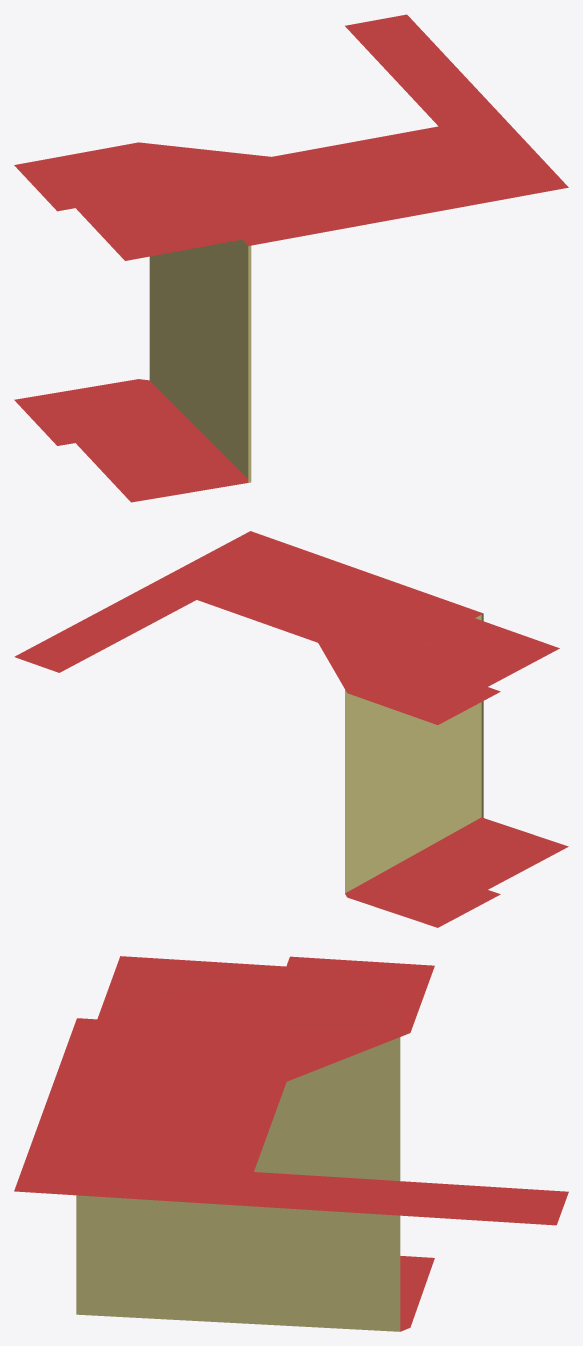
3 renders of one model, top to bottom at view 1: azimuth 30°, elevation 25°; view 2: azimuth 150°, elevation 25°; view 3: azimuth 270°, elevation 25°, orthographic. The views are drawn at different scales.
Bounding box in the file's own units: 11.46 × 9.63 × 5.77.
